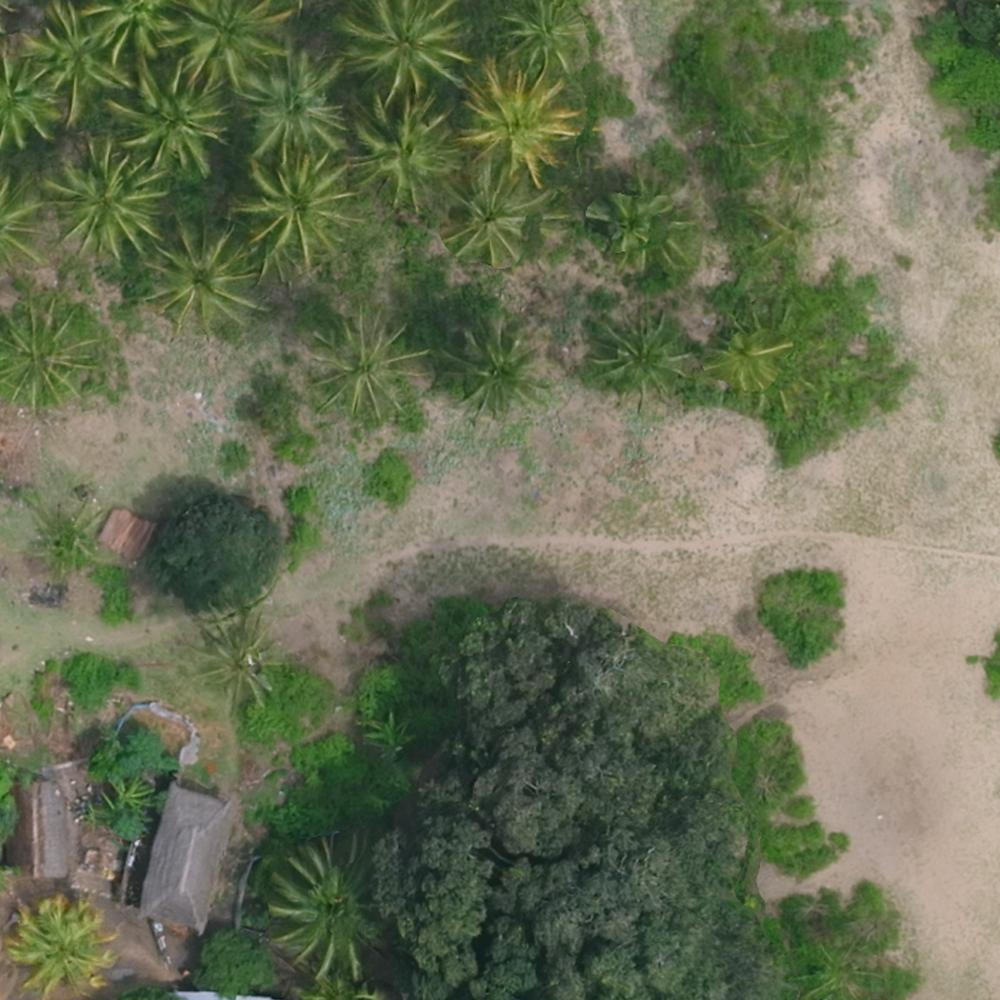Palm: (274, 840, 391, 974), (109, 56, 226, 171), (145, 218, 259, 333), (459, 62, 576, 173), (231, 156, 348, 266), (43, 142, 161, 250), (20, 5, 132, 117), (329, 1, 459, 97), (160, 1, 296, 86), (309, 308, 416, 415), (345, 98, 455, 202), (231, 52, 346, 151), (2, 294, 101, 408), (8, 894, 115, 993), (443, 308, 547, 409), (442, 162, 543, 261), (183, 608, 283, 699), (596, 301, 692, 389), (495, 1, 576, 69)
